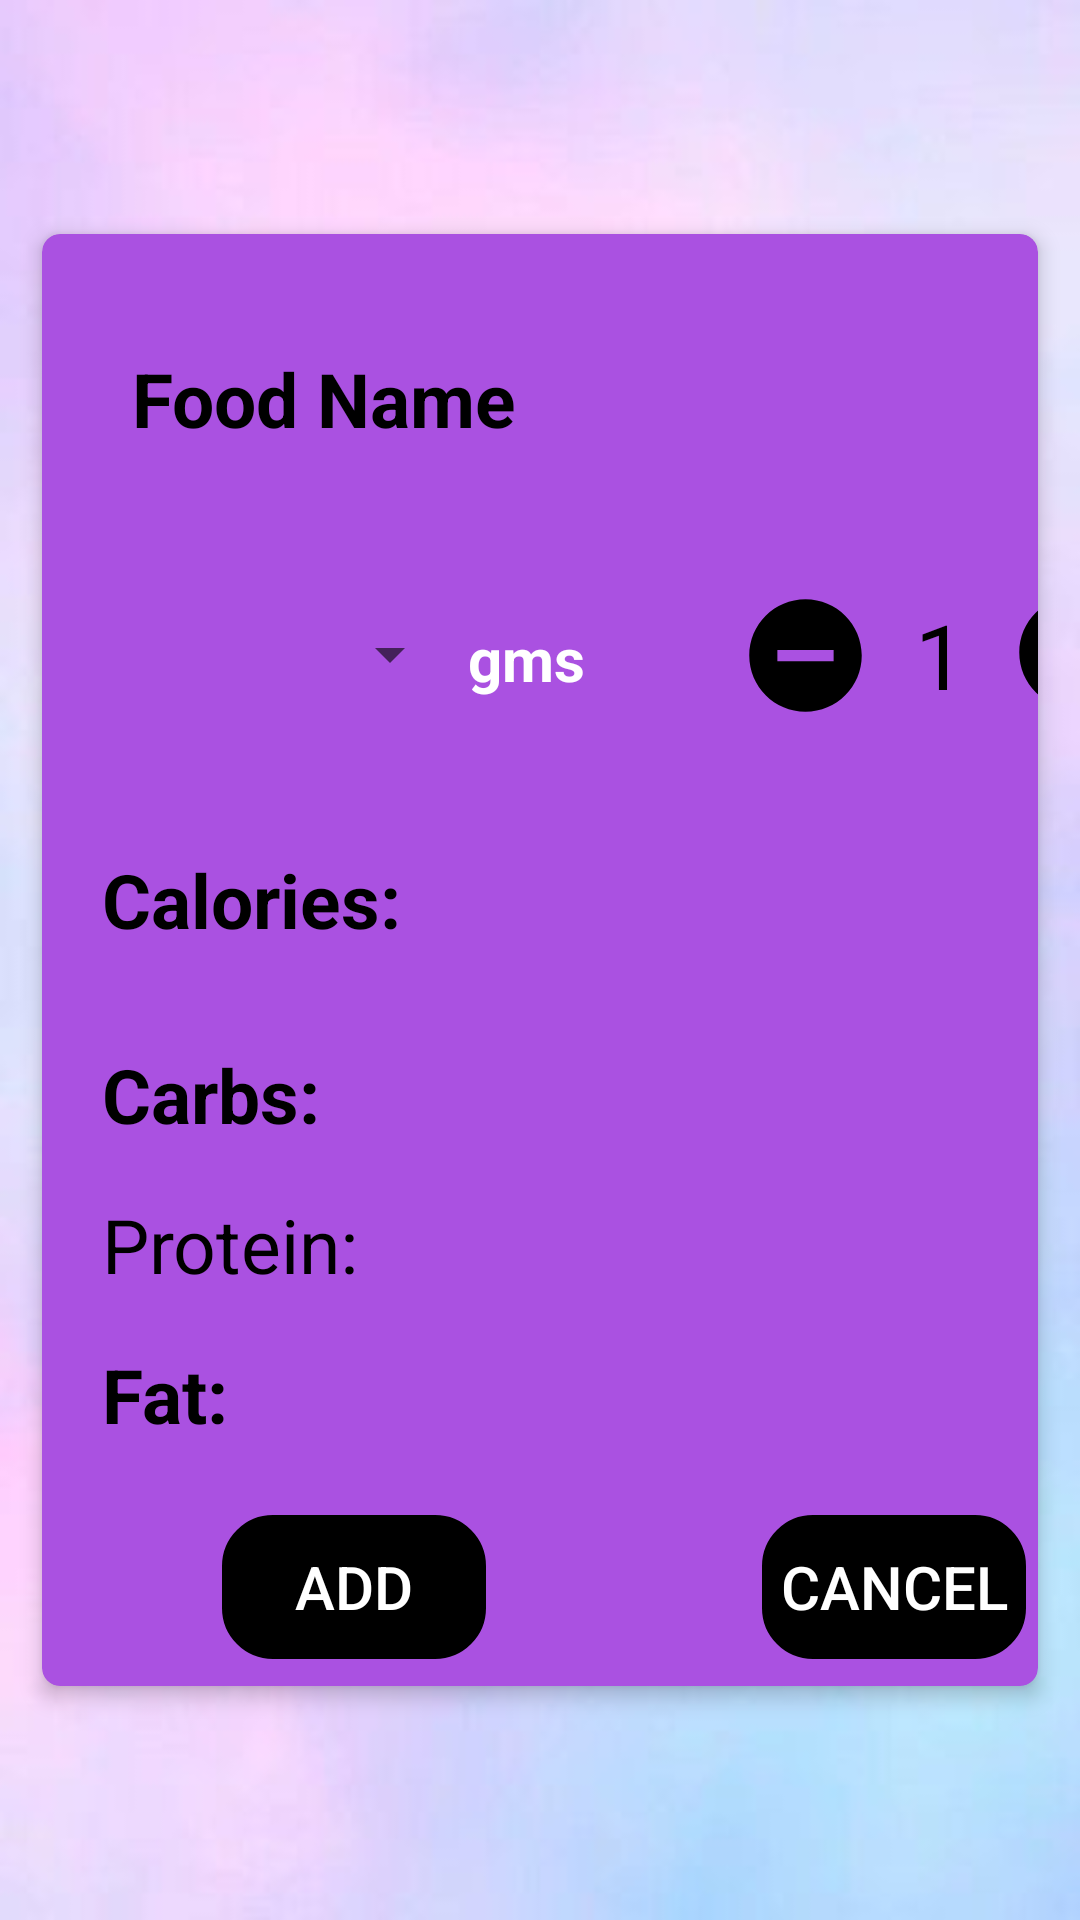

Where to tap for icons on this 1080x1920 app screen, as (x=x, y=y):
do not disturb on: (x=805, y=655)
